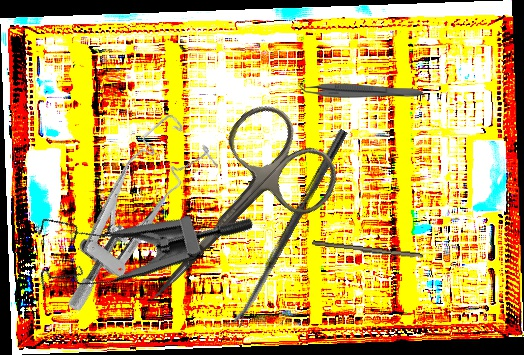Iris Scissors: (108, 93, 351, 339)
Scalpel Handle: (311, 240, 424, 260)
Speculum: (14, 135, 257, 328), (16, 107, 235, 317)
Surgical Spoon: (231, 128, 348, 328)
Tissue Forceps: (297, 81, 423, 98)
